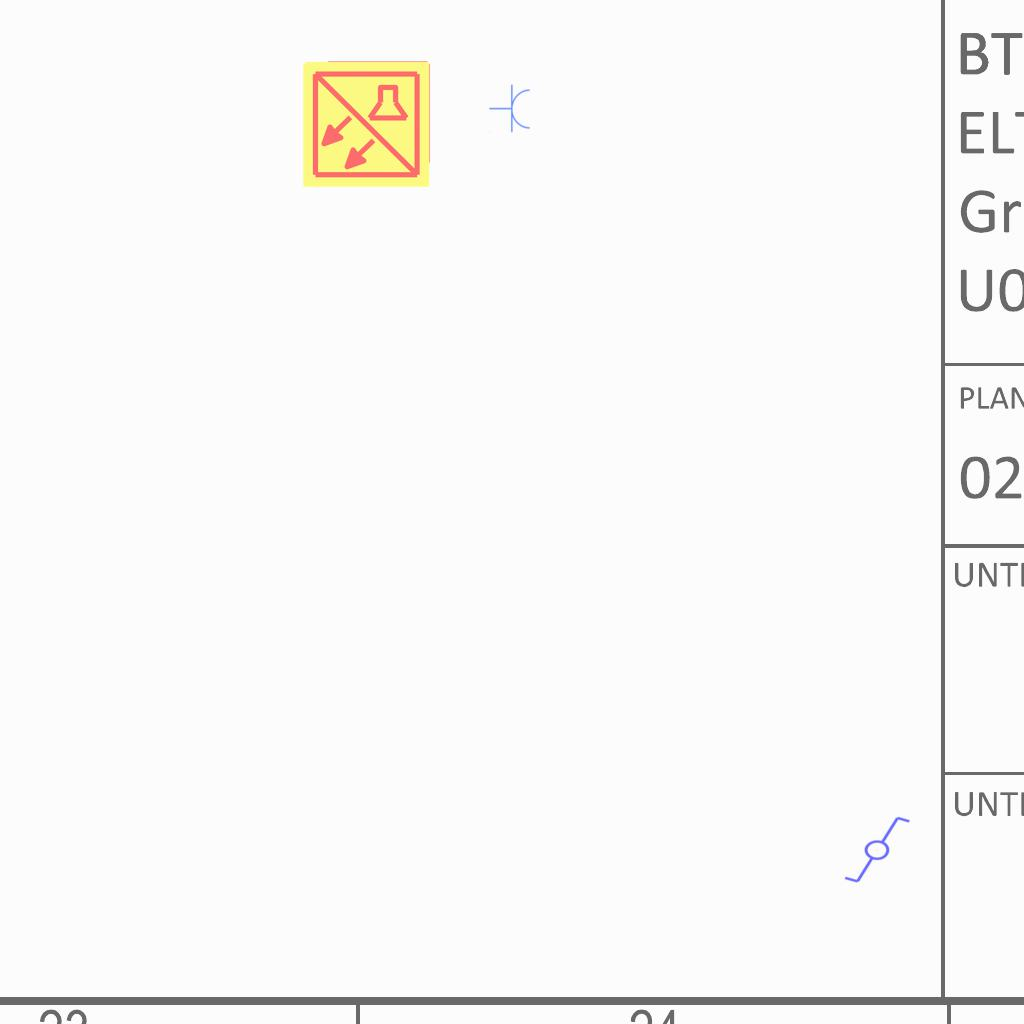OKW_Multisensormelder_(Kombination_optischer_Rauch-Kahlenmonoxid_Waerme-Melder): (300, 58, 432, 190)
Schukosteckdose_einfach: (489, 84, 532, 134)
Wechselschalter: (834, 813, 912, 885)
